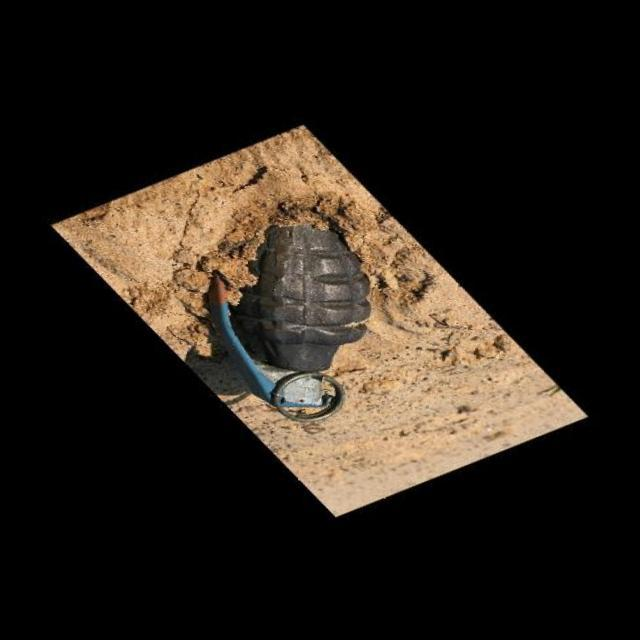grenade: (180, 204, 397, 432)
